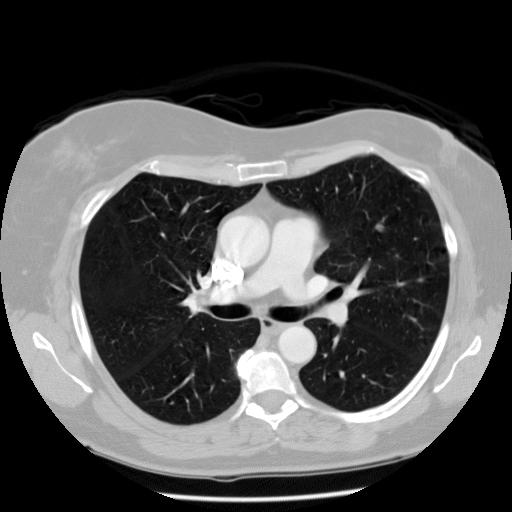nodule: (373, 221, 387, 235)
